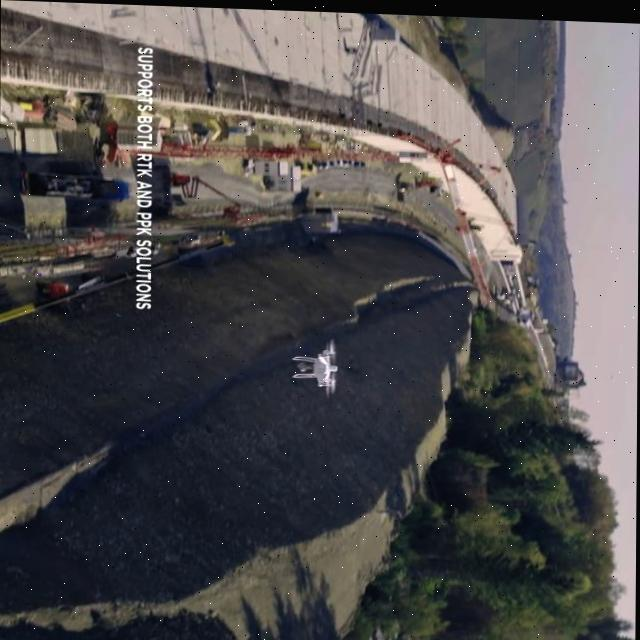drone: (288, 332, 344, 399)
